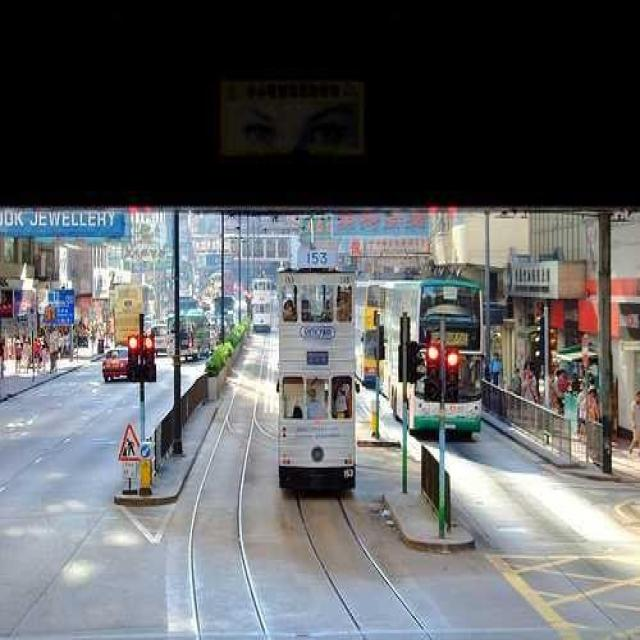Traffic Light -Red-: (423, 343, 444, 401), (444, 348, 462, 408), (124, 330, 142, 386), (143, 334, 158, 386)
